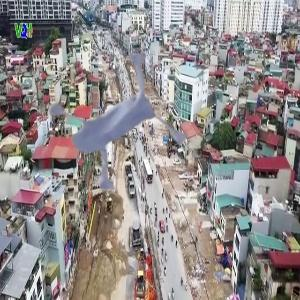drone: (6, 13, 218, 225)
